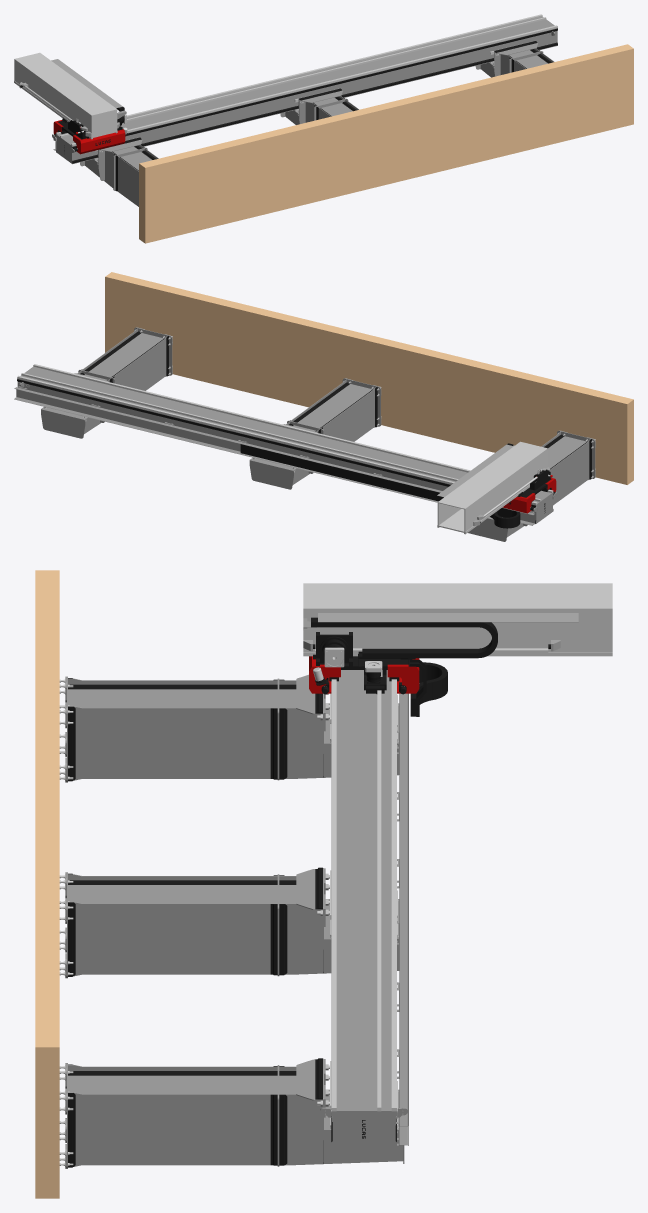
3 views of the same model, one above another, from view 1: azimuth 30°, elevation 25°; view 2: azimuth 150°, elevation 25°; view 3: azimuth 270°, elevation 25° (orthographic). The views are drawn at different scales.
Parts seen in each view (by area): view 1: _lucas_sol_5780_510000908_0, _rcz_fut_4_5_3_Sa10000903_0, _lucas_poutre_sta10000861_2, _lucas_poutre_sta10000861_1, _lucas_poutre_sta10000862_0, _lucas_poutre_sta10000861_0, _lucas_al_rail_1110000865_0, _lucas_al_rail_1110000864_0, _al_poteau_bas_2110000896_0, _alsc_nez_de_pote10000895_0, _rcz_chariot_stan10000870_0, _alsc_nez_de_pote10000897_0 (+3 smaller); view 2: _lucas_sol_5780_510000908_0, _rcz_fut_4_5_3_Sa10000903_0, _al_poteau_bas_2110000898_0, _al_poteau_bas_2110000899_0, _lucas_poutre_sta10000861_1, _lucas_poutre_sta10000861_2, _al_poteau_bas_2110000896_0, _lucas_chaine_Rep10000890_0, _lucas_poutre_sta10000862_0, _lucas_al_rail_1110000864_0, _lucas_al_goulott10000888_2, _lucas_al_rail_1110000865_0 (+8 smaller); view 3: _al_poteau_bas_2110000898_0, _al_poteau_bas_2110000896_0, _al_poteau_bas_2110000899_0, _rcz_fut_4_5_3_Sa10000903_0, _lucas_sol_5780_510000908_0, _lucas_poutre_sta10000862_0, _lucas_poutre_sta10000861_1, _alsc_nez_de_pote10000897_0, _lucas_poutre_sta10000861_2, _alsc_nez_de_pote10000894_0, _alsc_nez_de_pote10000895_0, _lucas_poutre_sta10000861_0 (+8 smaller).
Part boxes in pixels (x1,y1,x2,y2): _lucas_sol_5780_510000908_0: (139,44,633,243); _rcz_fut_4_5_3_Sa10000903_0: (14,52,122,139); _lucas_poutre_sta10000861_2: (311,42,452,97); _lucas_poutre_sta10000861_1: (184,73,325,133); _lucas_poutre_sta10000862_0: (437,17,557,71); _lucas_poutre_sta10000861_0: (56,104,198,164); _lucas_al_rail_1110000865_0: (71,25,557,146); _lucas_al_rail_1110000864_0: (56,14,542,135); _al_poteau_bas_2110000896_0: (113,148,158,206); _alsc_nez_de_pote10000895_0: (80,137,146,189); _rcz_chariot_stan10000870_0: (53,118,127,154); _alsc_nez_de_pote10000897_0: (475,41,541,77); _lucas_sol_5780_510000908_0: (105,272,633,484); _rcz_fut_4_5_3_Sa10000903_0: (437,441,550,534); _al_poteau_bas_2110000898_0: (81,327,172,390); _al_poteau_bas_2110000899_0: (288,378,381,441); _lucas_poutre_sta10000861_1: (265,427,416,480); _lucas_poutre_sta10000861_2: (130,394,280,447); _al_poteau_bas_2110000896_0: (541,430,595,505); _lucas_chaine_Rep10000890_0: (240,444,520,528); _lucas_poutre_sta10000862_0: (17,366,145,414); _lucas_al_rail_1110000864_0: (17,375,537,504); _lucas_al_goulott10000888_2: (127,414,263,459); _lucas_al_rail_1110000865_0: (33,364,553,492); _al_poteau_bas_2110000898_0: (59,1063,278,1168); _al_poteau_bas_2110000896_0: (59,676,278,782); _al_poteau_bas_2110000899_0: (59,872,278,978); _rcz_fut_4_5_3_Sa10000903_0: (303,583,612,656); _lucas_sol_5780_510000908_0: (35,570,59,1198); _lucas_poutre_sta10000862_0: (331,1008,396,1146); _lucas_poutre_sta10000861_1: (331,760,391,884); _alsc_nez_de_pote10000897_0: (278,1058,404,1166); _lucas_poutre_sta10000861_2: (331,884,391,1007); _alsc_nez_de_pote10000894_0: (278,867,399,975); _alsc_nez_de_pote10000895_0: (278,674,399,779); _lucas_poutre_sta10000861_0: (331,670,391,760).
Size of the model in its own units: 11578 by 1714 by 5925.
